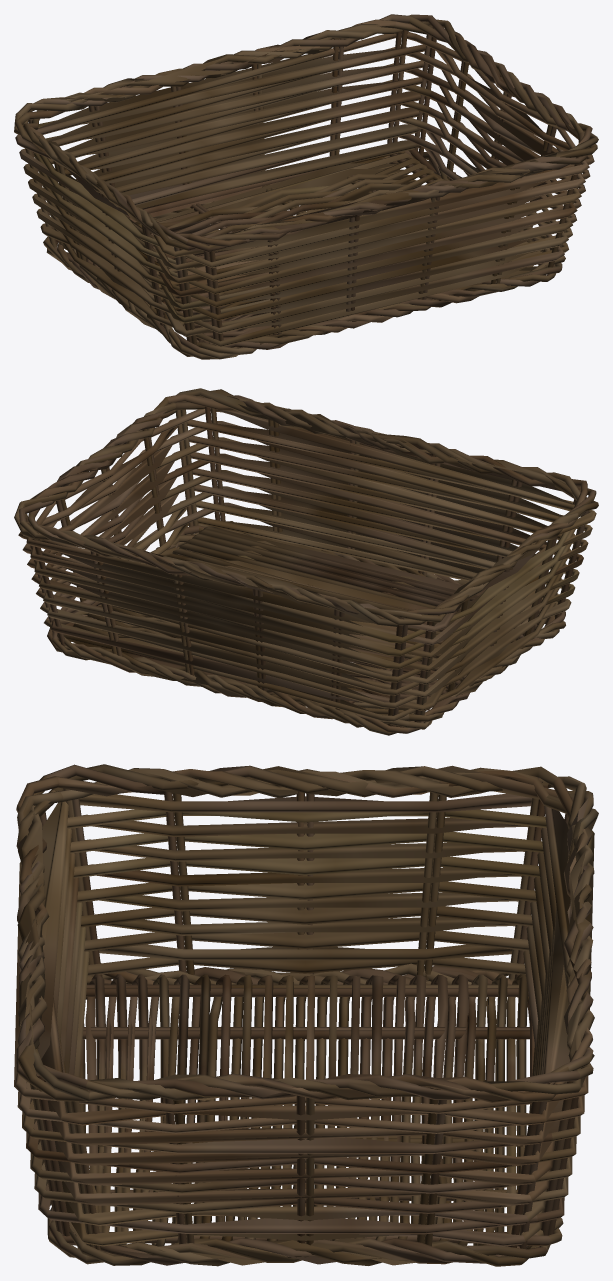
3 renders of one model, top to bottom at view 1: azimuth 30°, elevation 25°; view 2: azimuth 150°, elevation 25°; view 3: azimuth 270°, elevation 25°, orthographic. The views are drawn at different scales.
Visible parts, largest first — view 1: wicker_basket_01; view 2: wicker_basket_01; view 3: wicker_basket_01.
Part boxes in pixels (x1=…): wicker_basket_01: x1=14, y1=14, x2=598, y2=359; wicker_basket_01: x1=14, y1=388, x2=598, y2=735; wicker_basket_01: x1=14, y1=764, x2=598, y2=1266.
Size of the model in its own units: 0.3832 by 0.1174 by 0.295.
1 material, 1 textured.
